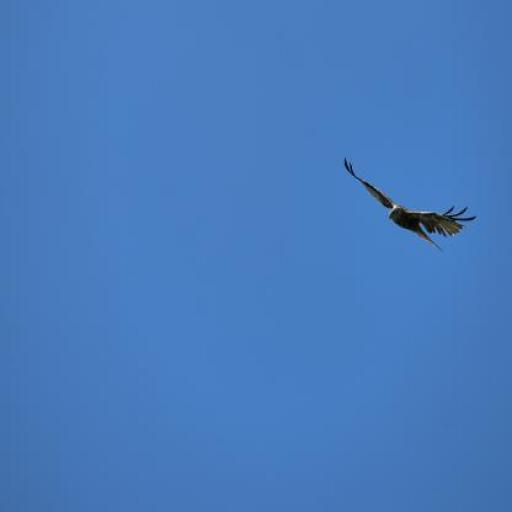bird: (344, 156, 478, 256)
